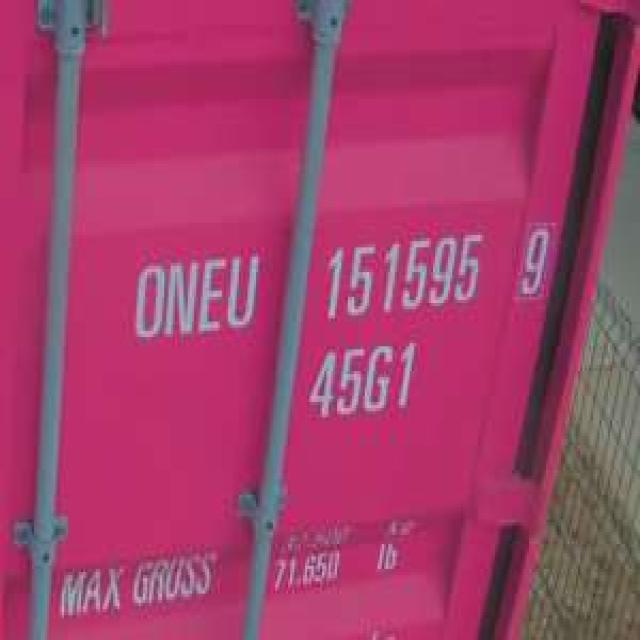dv: (515, 214, 557, 300)
owner: (128, 240, 264, 354)
serial: (311, 223, 487, 324)
size: (296, 332, 422, 424)
